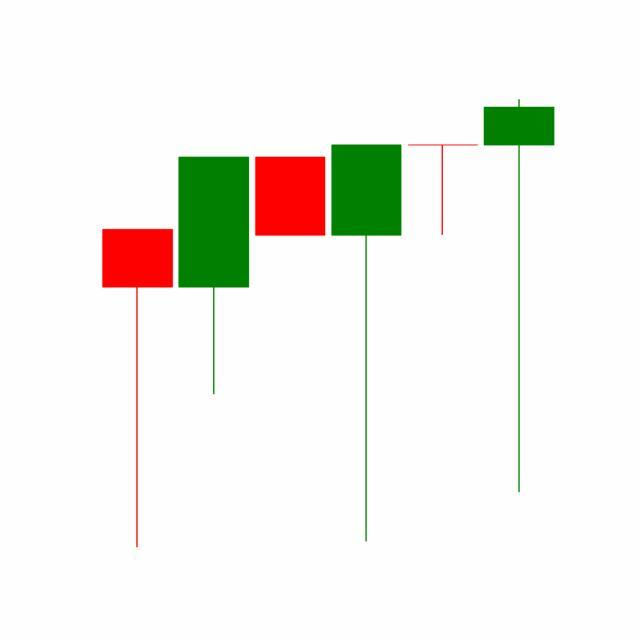Hanging Man: (404, 144, 482, 237)
